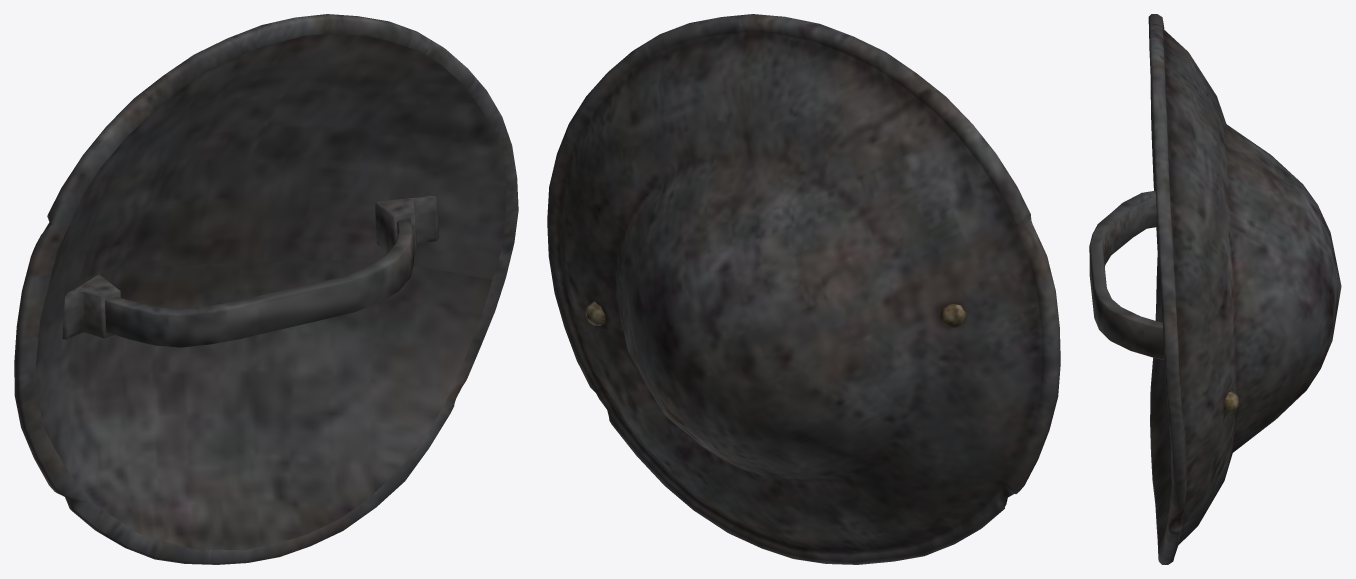
The model's file is weapon-wp_a_2098.glb.
The picture shows the model from 3 angles, left to right: view 1: azimuth 30°, elevation 25°; view 2: azimuth 150°, elevation 25°; view 3: azimuth 270°, elevation 25°; orthographic projection. The views are drawn at different scales.
Parts seen in each view (by area): view 1: wp_a_2098_mesh; view 2: wp_a_2098_mesh; view 3: wp_a_2098_mesh.
Part boxes in pixels (box(x1,y1,x2,y2)): wp_a_2098_mesh: box(14, 14, 518, 564); wp_a_2098_mesh: box(547, 14, 1060, 564); wp_a_2098_mesh: box(1089, 14, 1341, 564).
Size of the model in its own units: 0.3039 by 0.3077 by 0.1402.
Materials: 1 (1 with a texture image).
